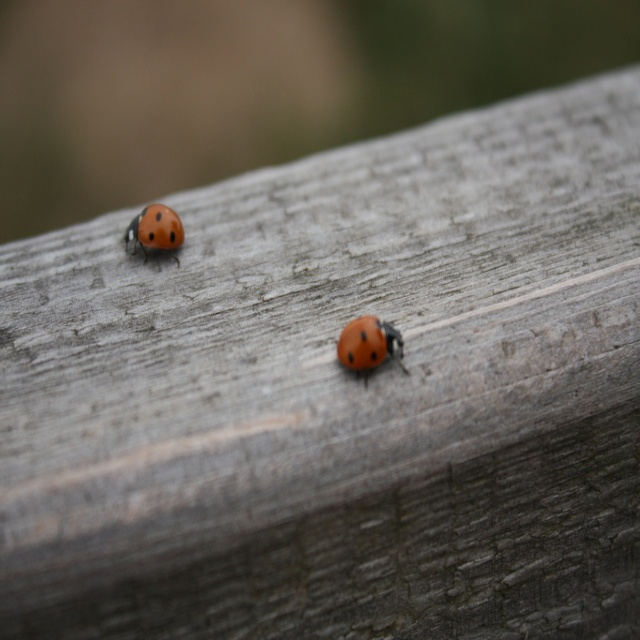Ladybug: (338, 316, 412, 390), (122, 202, 184, 265)
